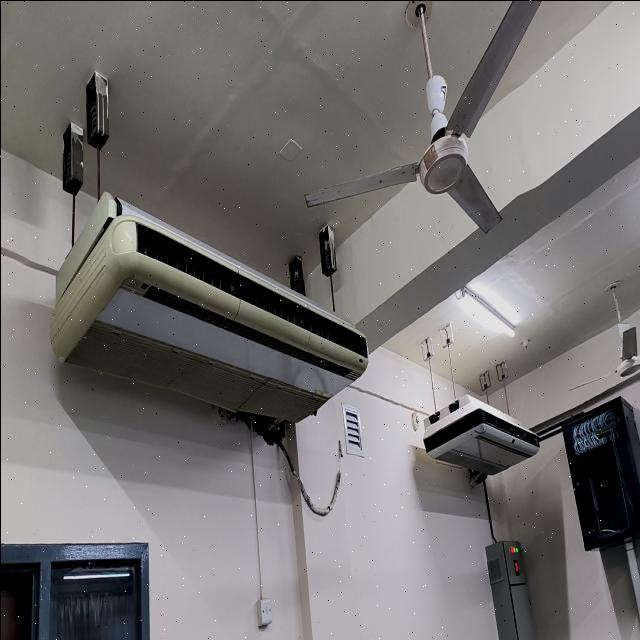Ac: (49, 191, 368, 422), (422, 393, 538, 481)
Fire Extinguisher: (485, 540, 534, 640)
Light: (455, 285, 514, 334)
